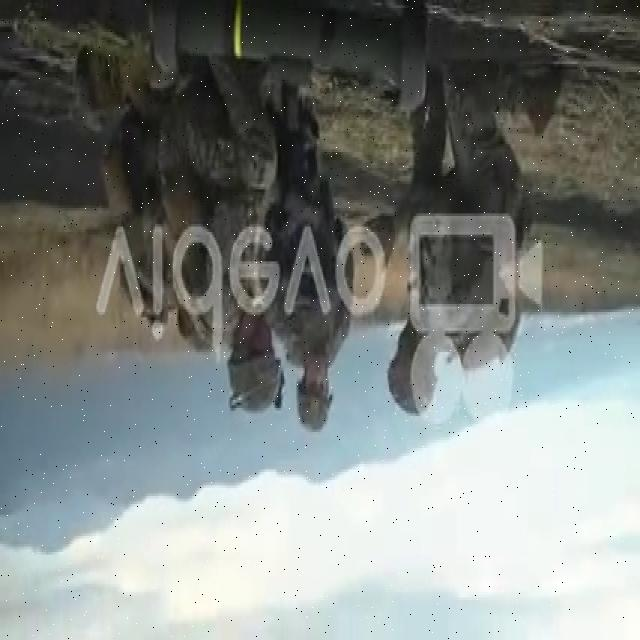bazooka: (146, 1, 436, 122)
